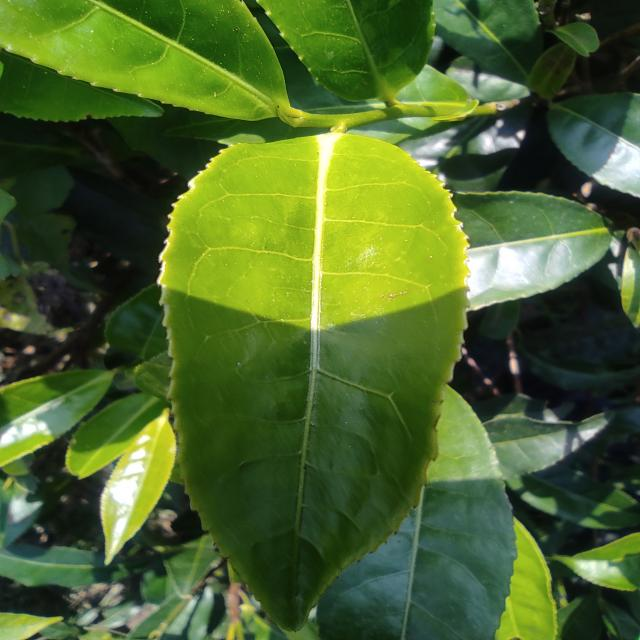Category C(4-7 days): (134, 73, 482, 626)
